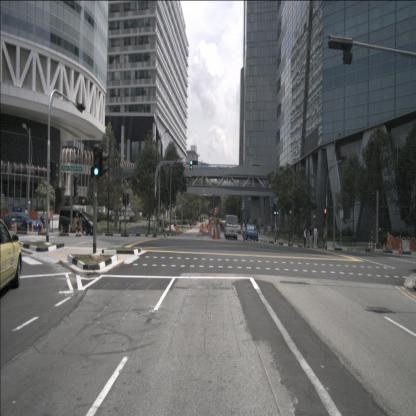barrier: (392, 238, 403, 251), (401, 239, 411, 252), (410, 240, 415, 253), (211, 226, 216, 238), (216, 225, 220, 239)
cone: (398, 241, 403, 255), (370, 240, 374, 254), (68, 223, 72, 234), (26, 221, 30, 232), (199, 228, 206, 234), (382, 242, 386, 252), (12, 222, 16, 231), (31, 221, 34, 232), (214, 230, 218, 238), (49, 222, 52, 232), (367, 241, 370, 250), (41, 223, 44, 232), (14, 221, 17, 230), (374, 242, 377, 250), (61, 224, 63, 234)
